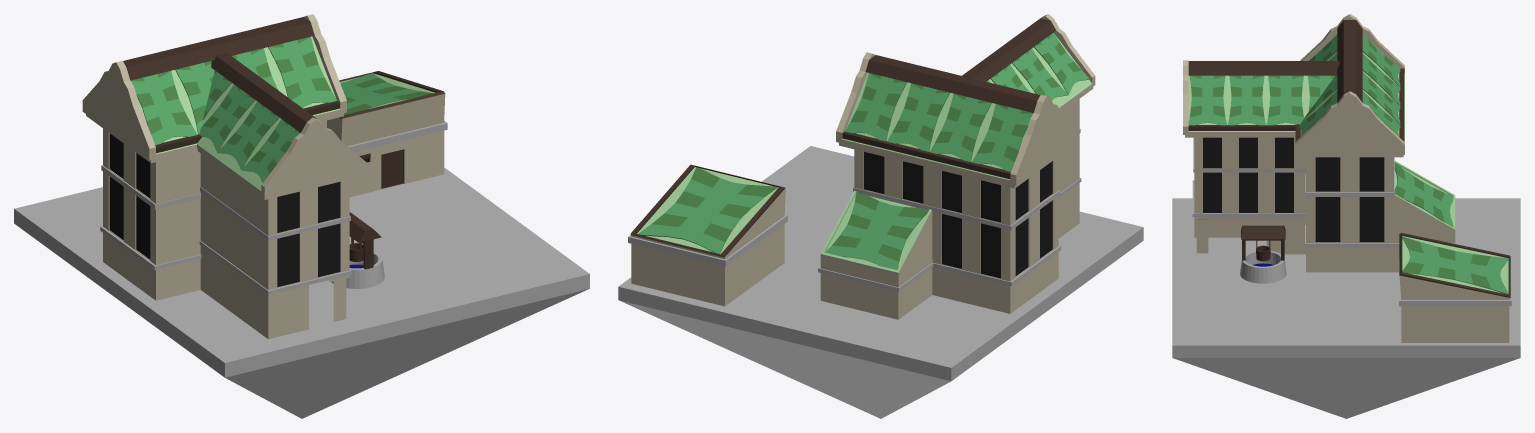
File: Building House T3.fbx
3 renders of one model, left to right at view 1: azimuth 30°, elevation 25°; view 2: azimuth 150°, elevation 25°; view 3: azimuth 270°, elevation 25°, orthographic. The views are drawn at different scales.
Visible parts, largest first — view 1: House T3; view 2: House T3; view 3: House T3.
Boxes of the visible parts, x1,y1,x2,y2 form: House T3: (14, 14, 589, 418); House T3: (618, 14, 1143, 418); House T3: (1172, 14, 1520, 418).
Size of the model in its own units: 1604 by 1675 by 1599.
